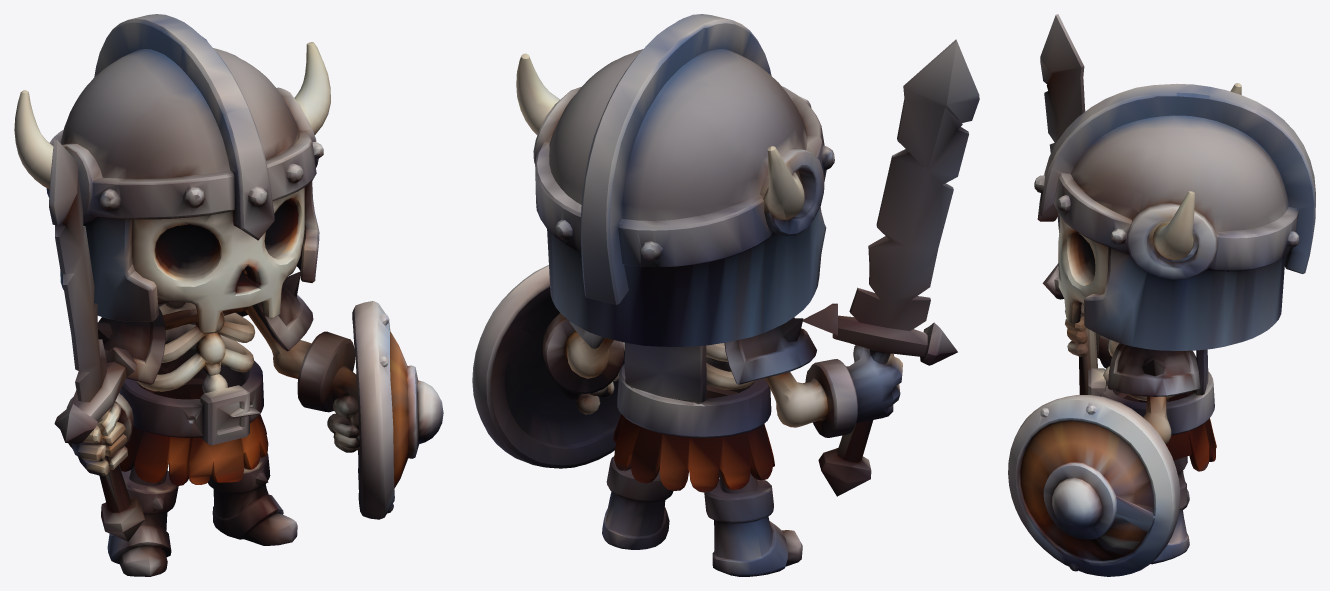
Rendered from Hulk.fbx.
3 renders of one model, left to right at view 1: azimuth 30°, elevation 25°; view 2: azimuth 150°, elevation 25°; view 3: azimuth 270°, elevation 25°, orthographic. The views are drawn at different scales.
Visible parts, largest first — view 1: mesh_input; view 2: mesh_input; view 3: mesh_input.
Part boxes in pixels (x1,y1,x2,y2): mesh_input: (14, 14, 443, 576); mesh_input: (472, 14, 979, 576); mesh_input: (1008, 14, 1315, 576).
Bounding box in the file's own units: 1.63 × 1.2 × 1.9.
